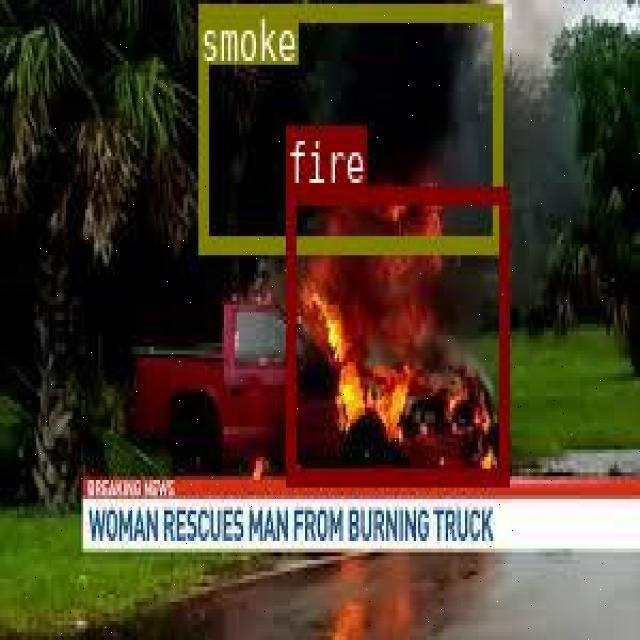fire: (284, 184, 508, 481)
smoke: (197, 1, 501, 251)
